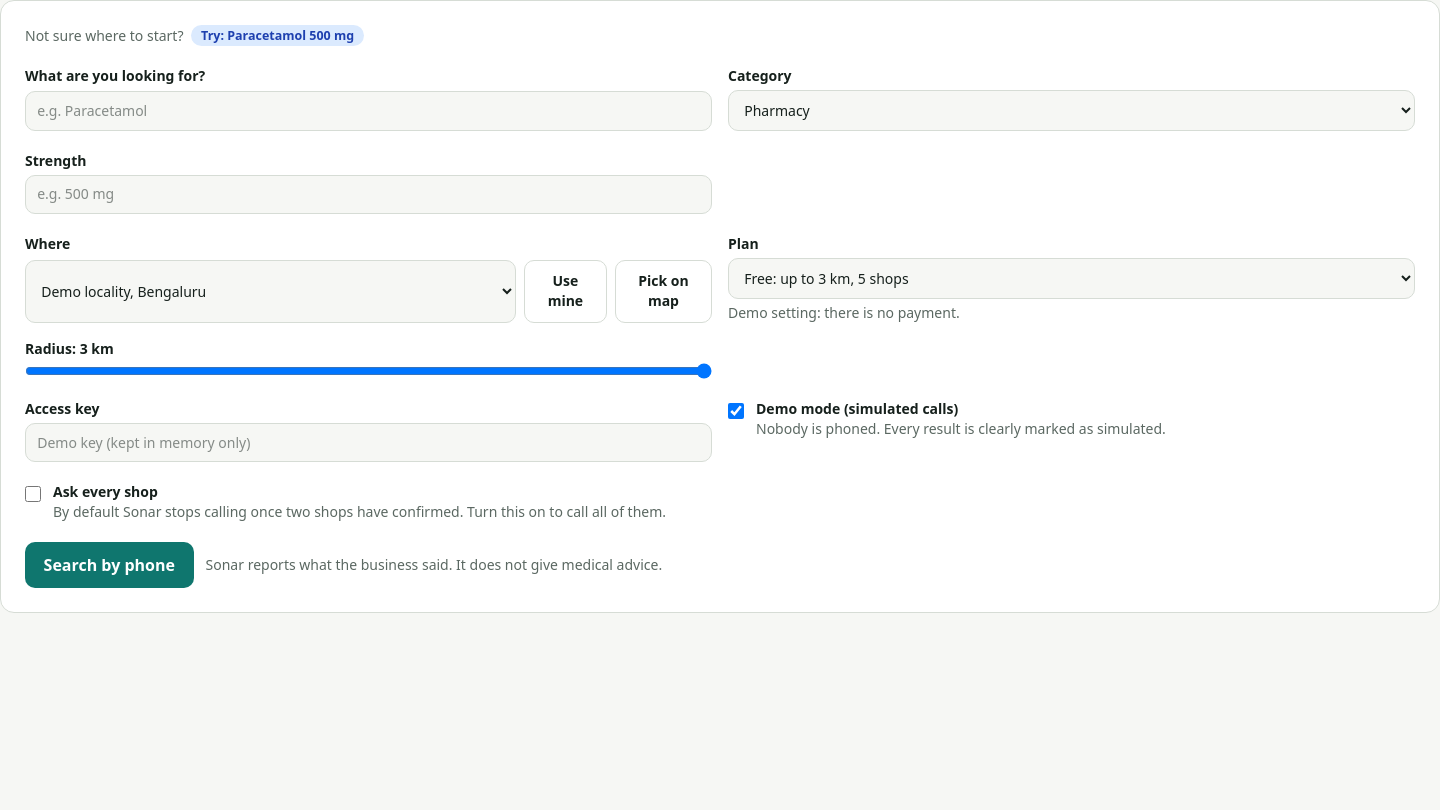
Test: SearchForm › falls back to the demo locality when location permission is denied
Click the button "Use mine".
click(565, 291)  # box x1=524 y1=260 x2=607 y2=323
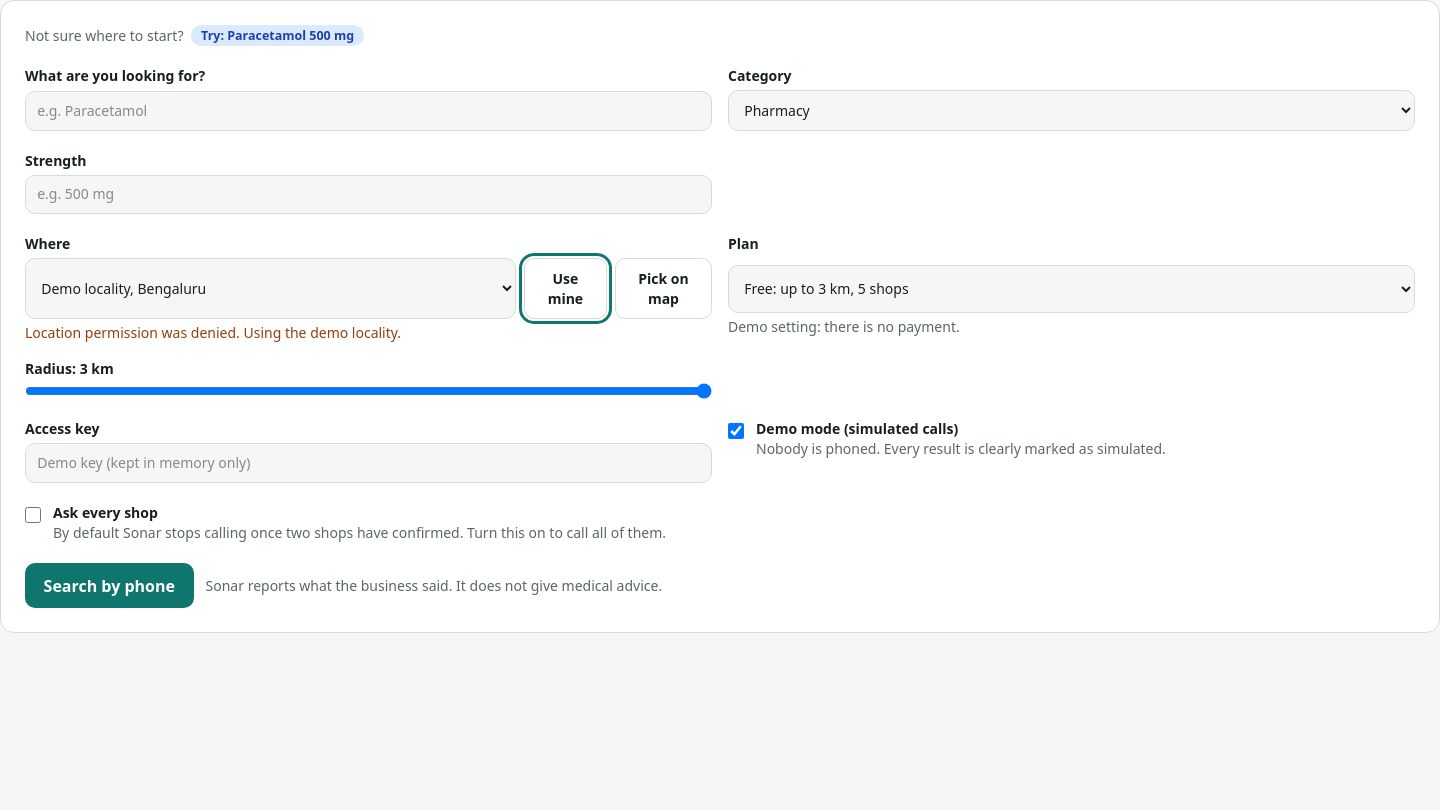
expect the text "Location permission was denied. Using the demo locality." is shown: met, box x1=25 y1=323 x2=401 y2=342
